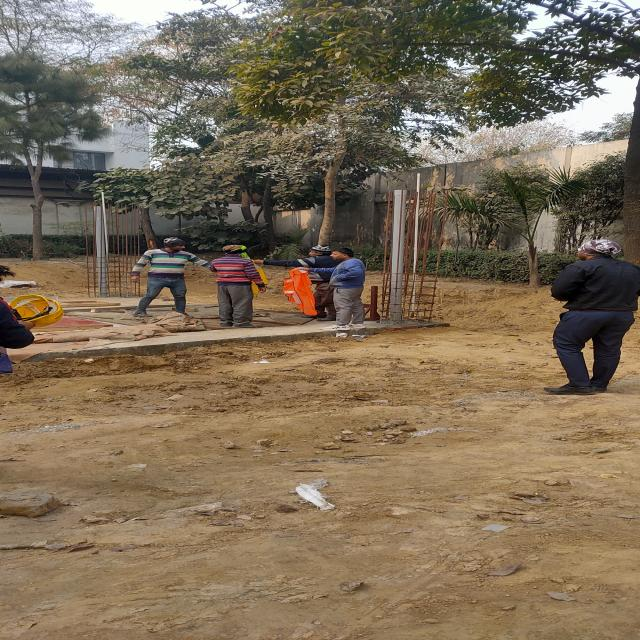unsafe: (552, 238, 638, 395), (130, 237, 192, 314), (212, 245, 266, 327), (327, 248, 366, 332)
